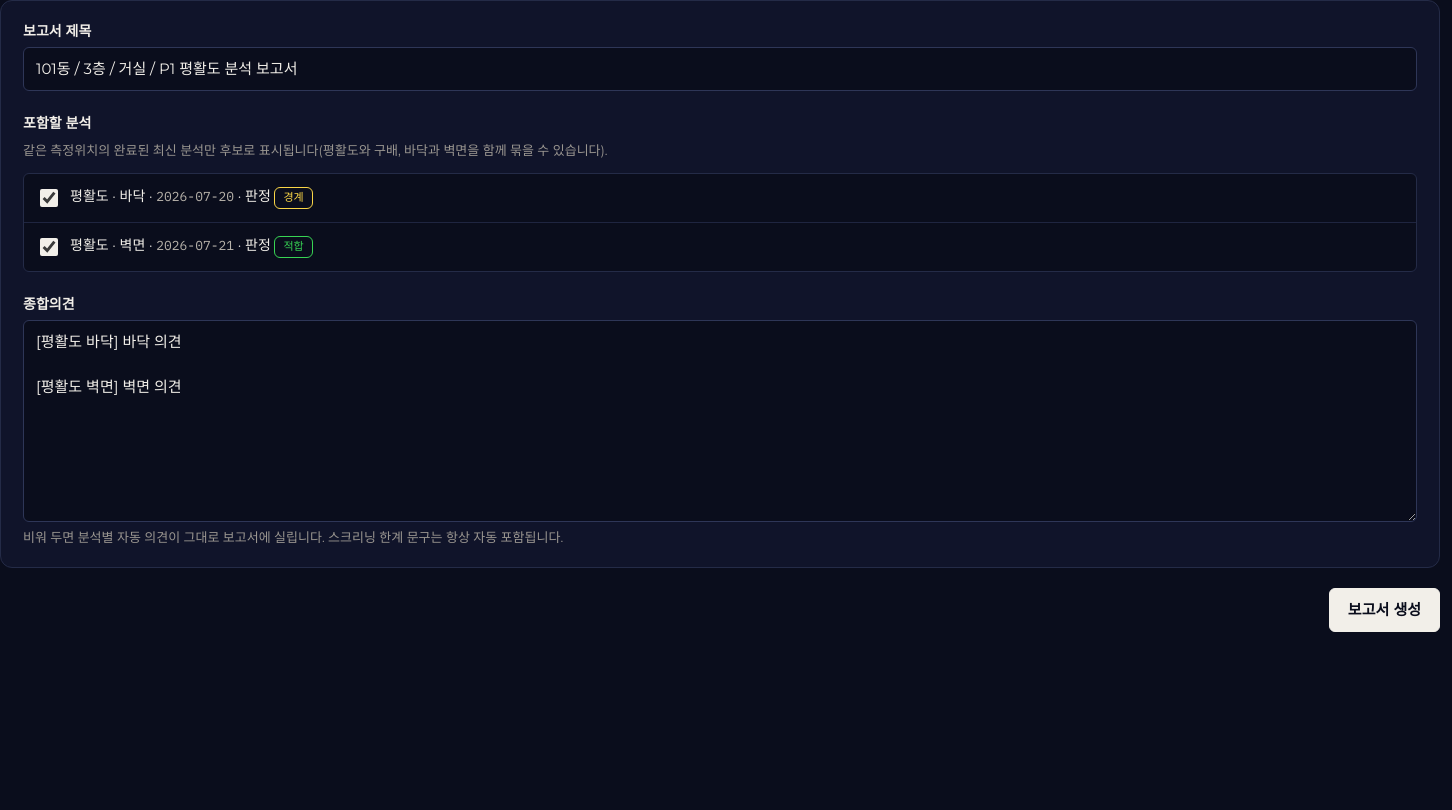
Test: ReportCreateForm 보강 (변이 실험으로 드러난 빈틈) › 제출하는 동안 버튼이 "생성 요청 중..."으로 바뀌고 잠긴다(중복 제출 방지)
Click the button "보고서 생성". click: [1384, 610]
box: [1329,588,1440,632]
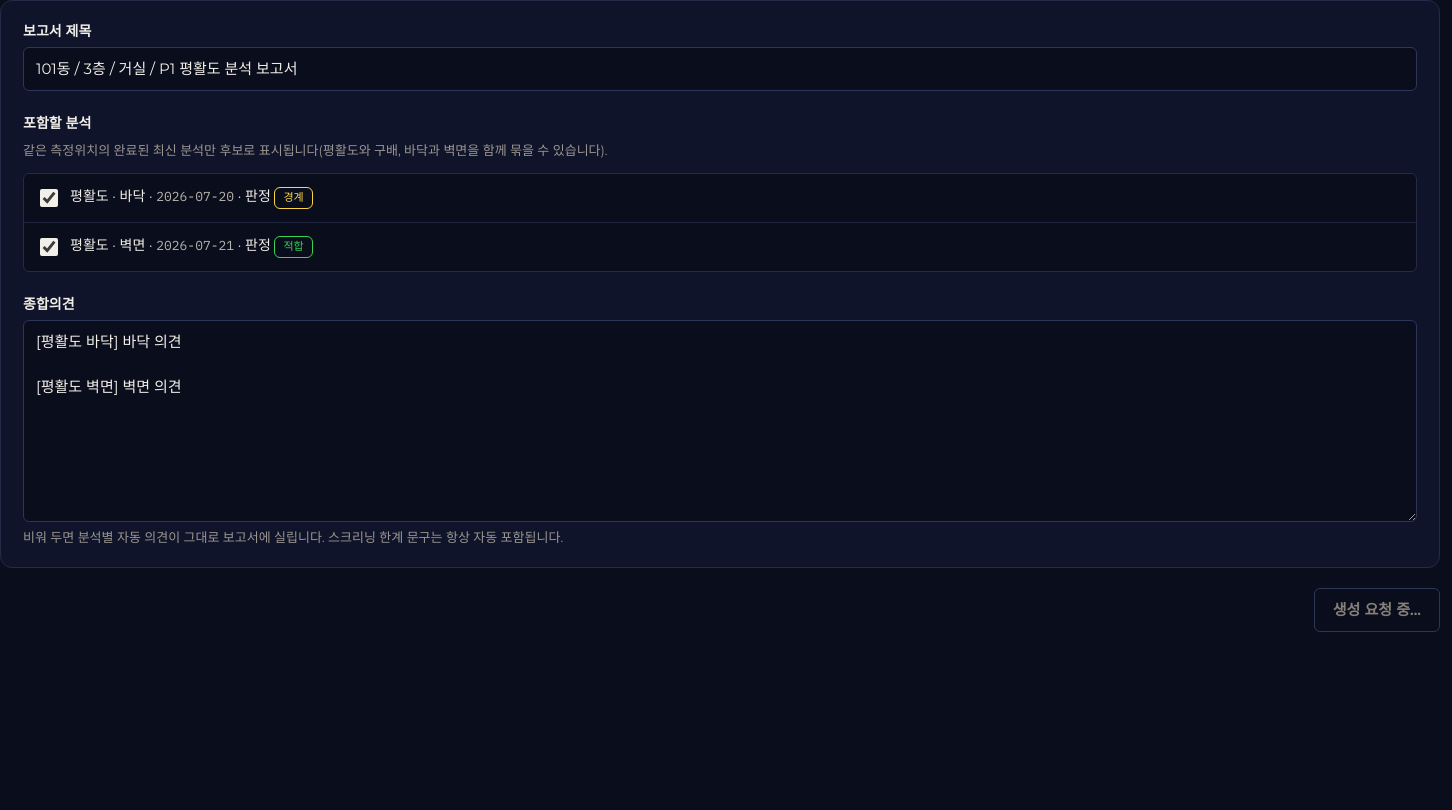
Result: the button "생성 요청 중..." is disabled at [1314,588,1440,632]
